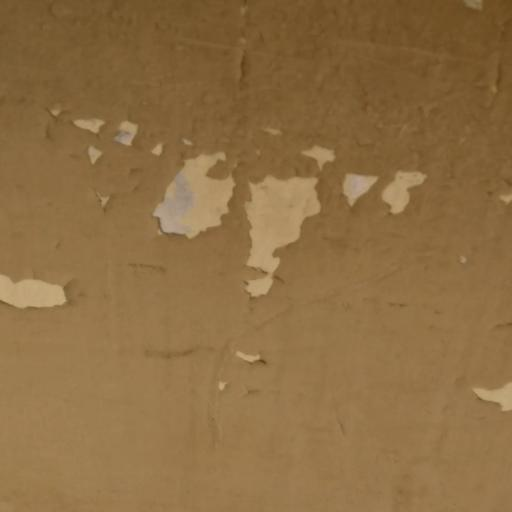peeling: (44, 85, 443, 309), (0, 263, 82, 328), (462, 350, 512, 431), (220, 338, 277, 381), (447, 0, 488, 32), (490, 186, 512, 213)
